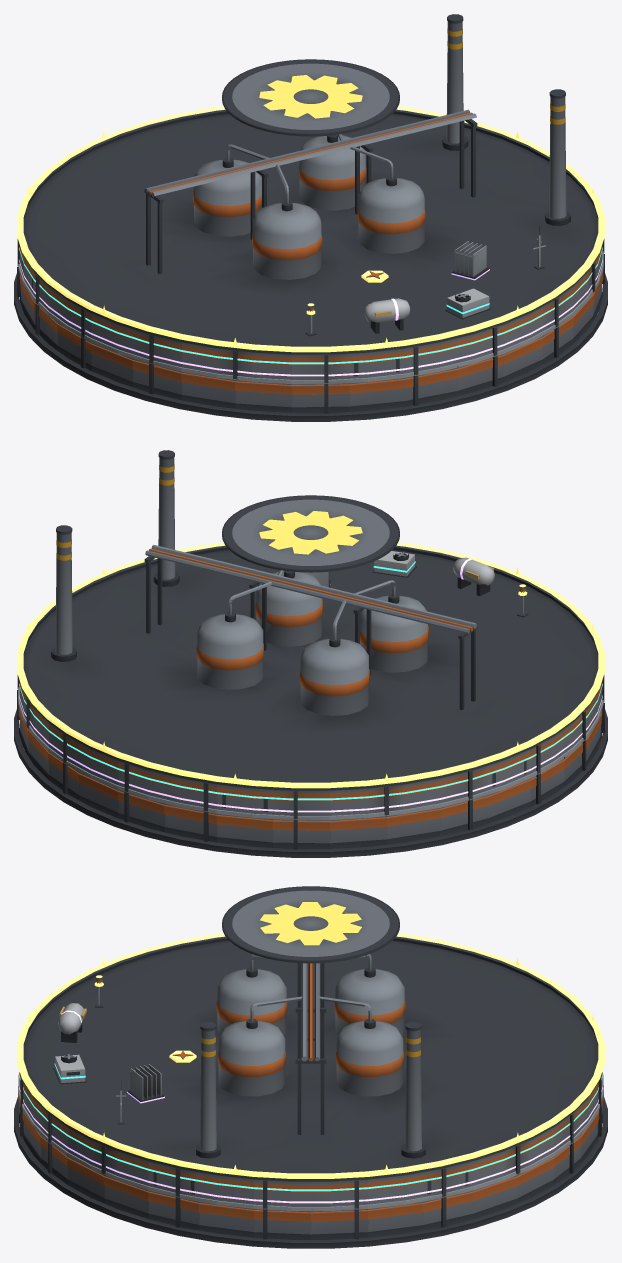
The model's file is polymer_plant_xl_far.glb.
The picture shows the model from 3 angles, top to bottom: view 1: azimuth 30°, elevation 25°; view 2: azimuth 150°, elevation 25°; view 3: azimuth 270°, elevation 25°; orthographic projection.
Parts seen in each view (by area): view 1: Roof, Base, L5, L4, L2, L3; view 2: Roof, Base, L5, L2, L4, L3; view 3: Roof, Base, L5, L4, L2, L3.
Part boxes in pixels (x1,y1,x2,y2): Roof: (17,14,604,382); Base: (14,254,607,421); L5: (17,106,604,352); L4: (19,241,602,376); L2: (18,226,603,384); L3: (19,211,602,364); Roof: (17,450,604,818); Base: (14,690,607,857); L5: (17,542,604,788); L2: (18,687,603,820); L4: (19,557,602,812); L3: (19,551,602,800); Roof: (19,886,602,1208); Base: (14,1085,607,1248); L5: (17,933,604,1178); L4: (19,1003,602,1203); L2: (18,1072,603,1210); L3: (19,1037,602,1191).
Size of the model in its own units: 23.15 by 8.58 by 23.15.
